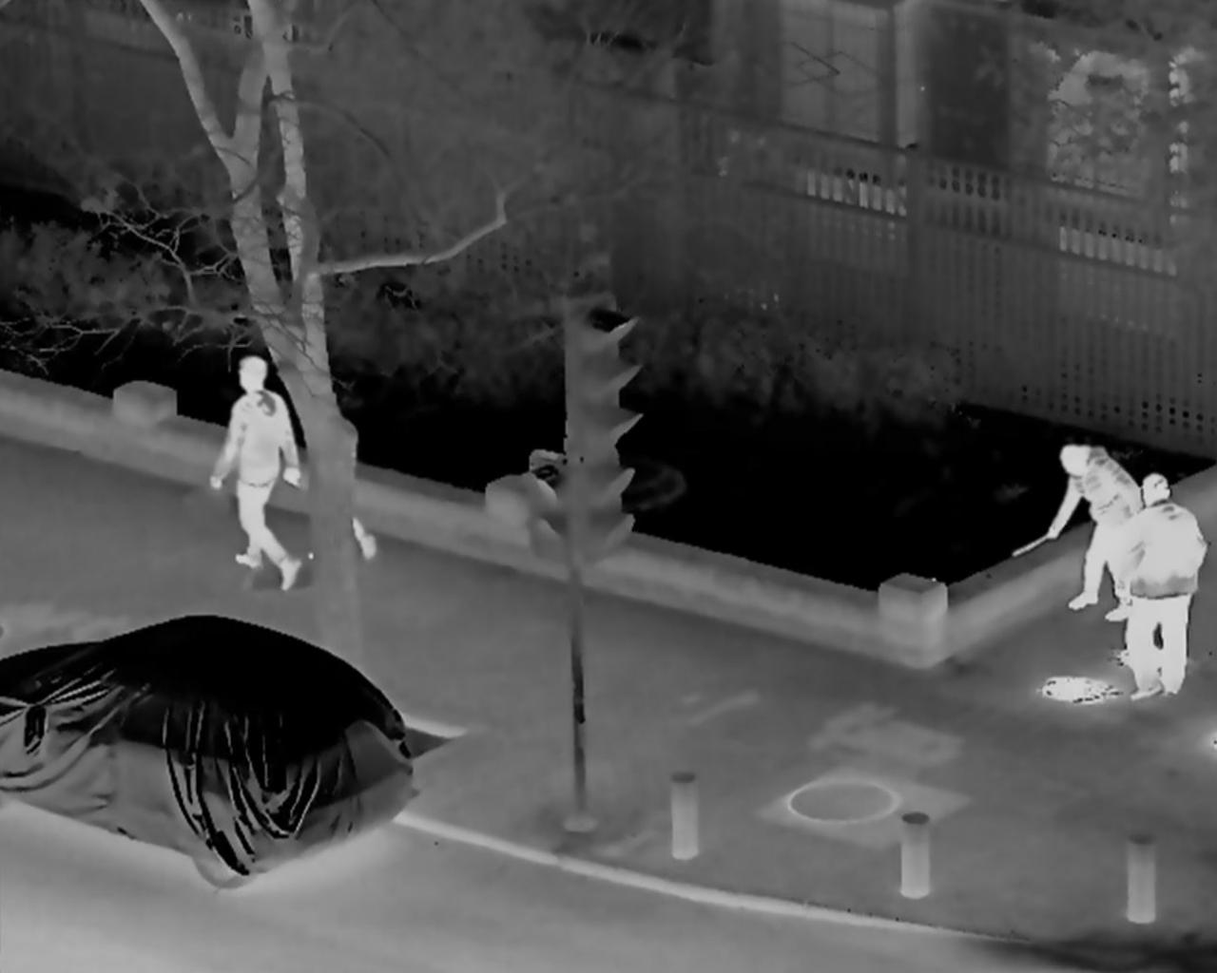person: (207, 364, 299, 589), (1111, 479, 1207, 692), (1043, 440, 1139, 615)
